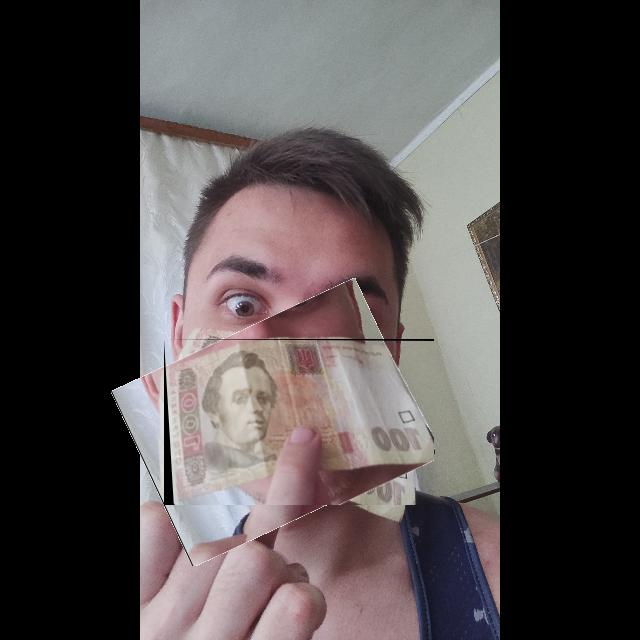100uah: (169, 340, 435, 506)
